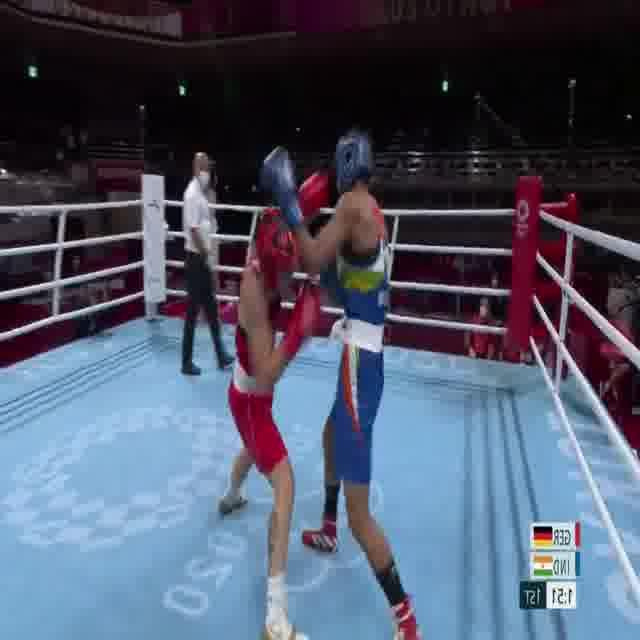blue-player: (256, 123, 422, 640)
red-player: (215, 167, 334, 640)
referee: (176, 146, 238, 380)
